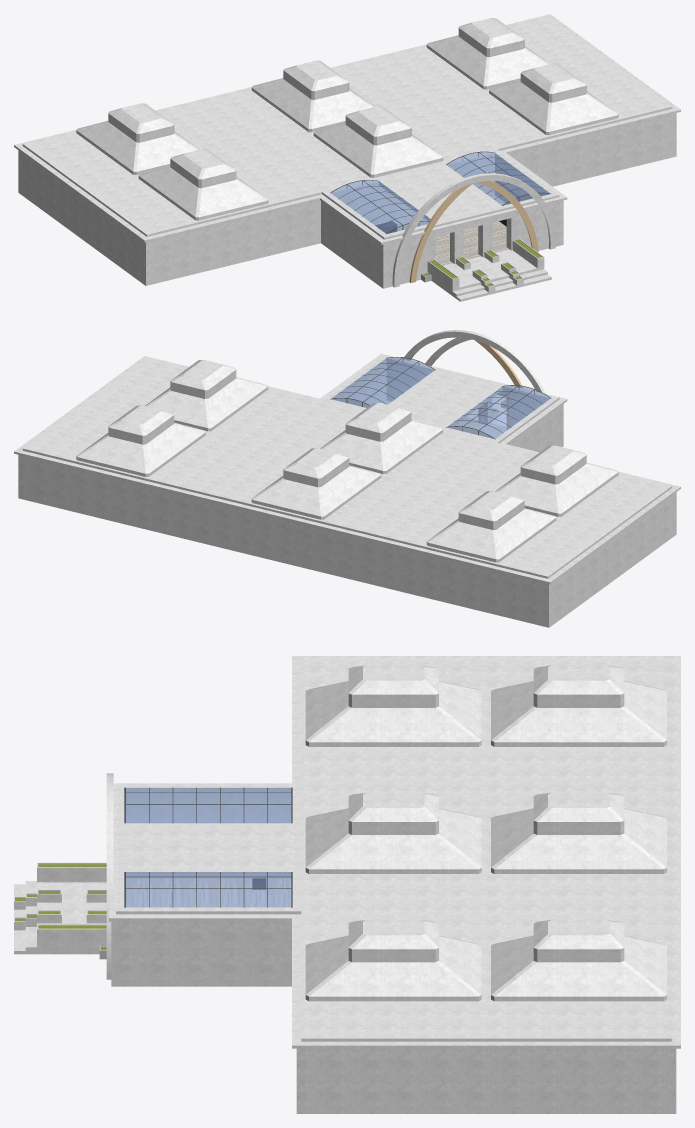
Rendered from NFTZ_Test_7_Pièces.gltf.
3 renders of one model, top to bottom at view 1: azimuth 30°, elevation 25°; view 2: azimuth 150°, elevation 25°; view 3: azimuth 270°, elevation 25°, orthographic. The views are drawn at different scales.
Parts seen in each view (by area): view 1: root; view 2: root; view 3: root.
Boxes of the visible parts, left/top/right/bottom form: root: left=14, top=14, right=680, bottom=301; root: left=14, top=330, right=680, bottom=627; root: left=14, top=656, right=680, bottom=1113.
Bounding box in the file's own units: 39.8 × 6.43 × 28.8.
8 materials, 4 textured.
